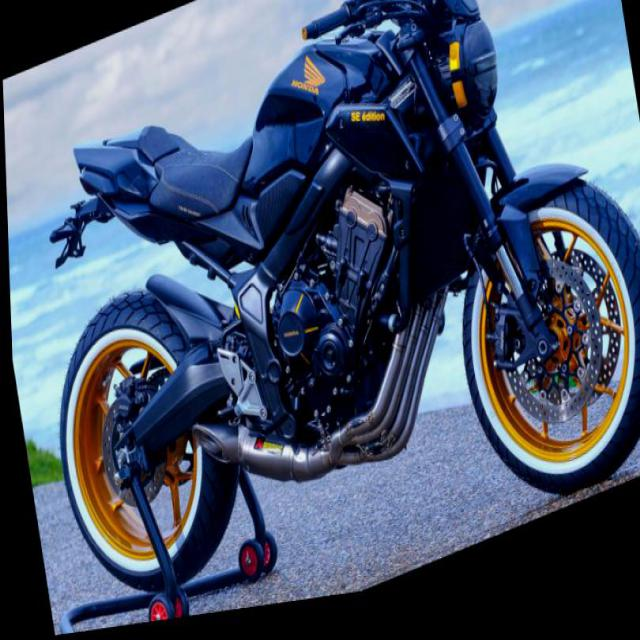CB650R: (2, 0, 640, 639)
